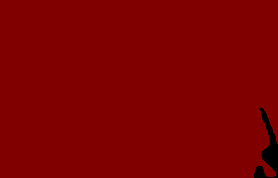Sky: (1, 1, 277, 177)
